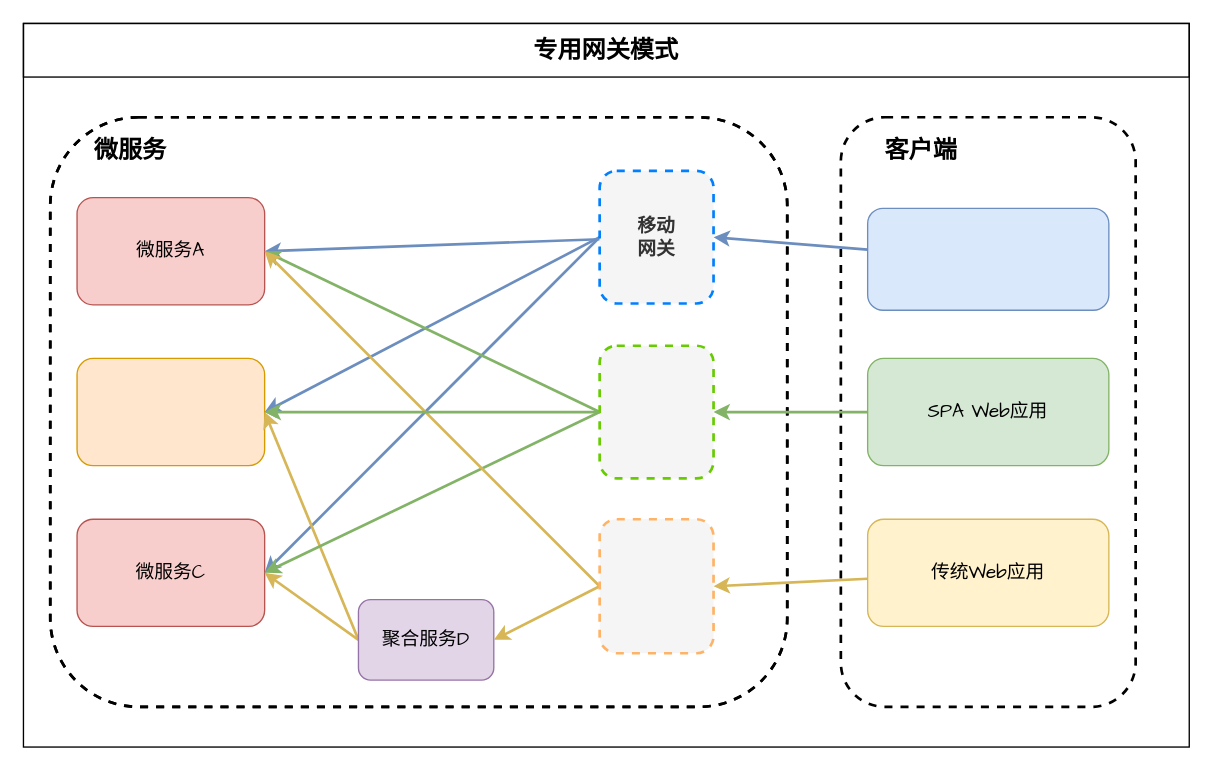
The diagram is 1213 pixels wide and 771 high, and some of its shapes have lost their labels. The shapes that lost their labels are listed below. From the top down, each one's centre as x and y in pixels, then its label:
point (987, 258): 移动客户端应用
point (170, 411): 微服务B
point (656, 411): SPA 网关
point (656, 585): 传统 Web 网关
